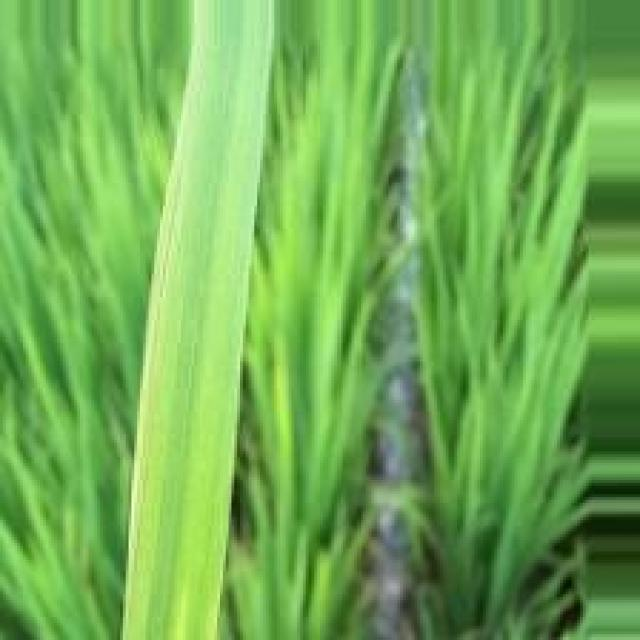HealthyLeaf: (148, 0, 269, 640)
